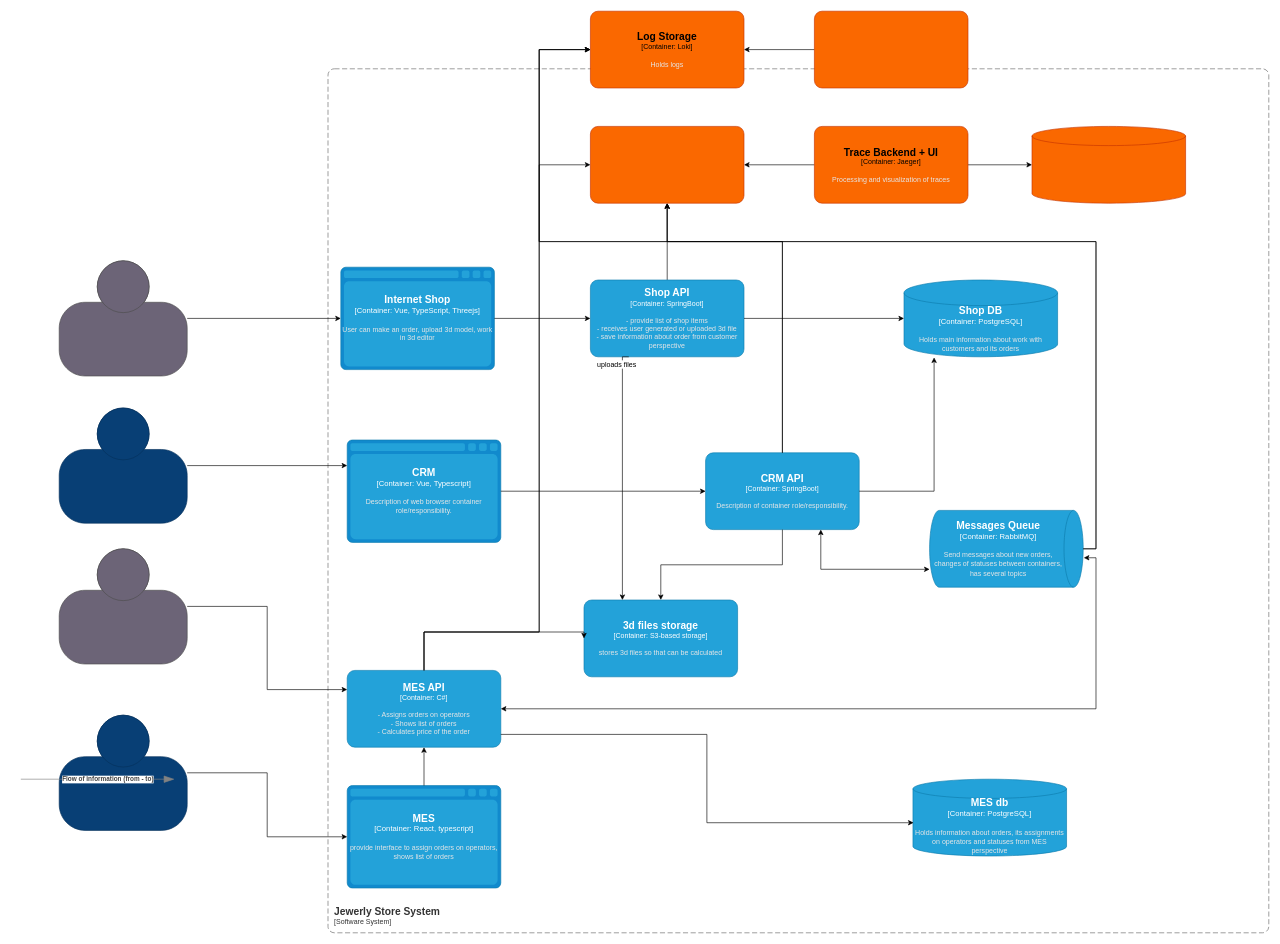
This 1280x944 diagram has some shape labels left out. The shapes that lost their labels are listed below. From the top down, each one's centre as x and y in pixels, then its label:
At (891,49): "Logs/Metrics UI [Container: Grafana] Logs/Metrics visualization".
At (667,164): "Trace Collector [Container: OpenTelemetry Collector] OTLP receiver".
At (1108,164): "Trace DB [Container: Elasticsearch] Holds tracing data".
At (123,318): "Customer [Person] Description of external person.".
At (123,465): "Seller [Person] Operates with order, confirms manufacturing for the user".
At (123,606): "API user [Person] Description of external person.".
At (123,772): "Operator [Person] Takes order in work, manufactures jewerly".
